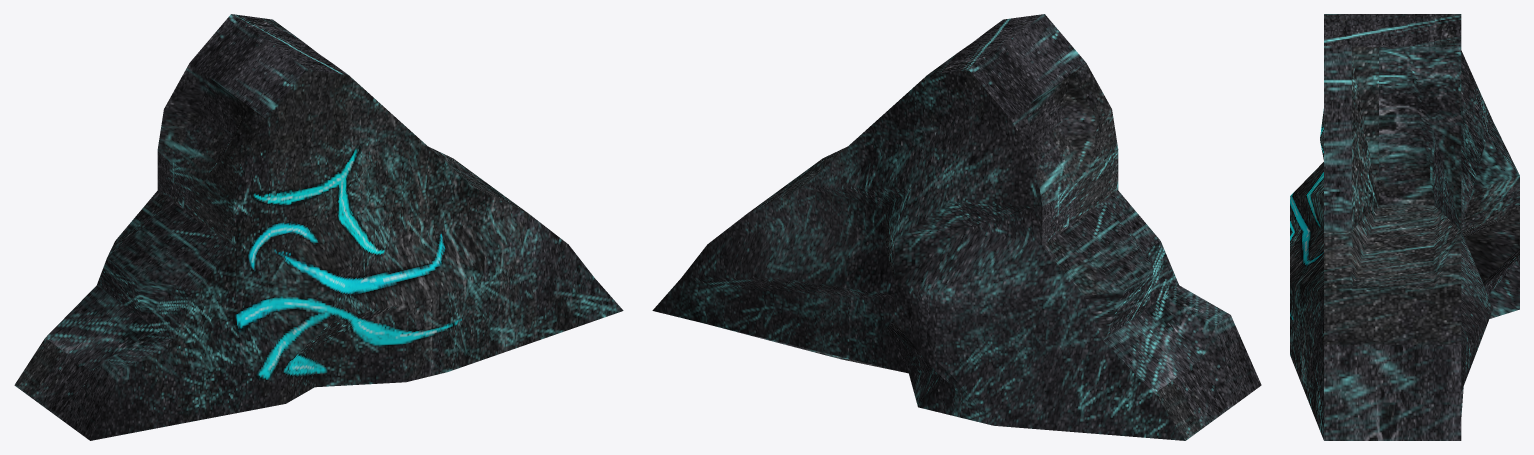
Rendered from piedra.fbx.
The picture shows the model from 3 angles, left to right: view 1: azimuth 30°, elevation 25°; view 2: azimuth 150°, elevation 25°; view 3: azimuth 270°, elevation 25°; orthographic projection. The views are drawn at different scales.
Parts seen in each view (by area): view 1: Box001; view 2: Box001; view 3: Box001.
Part boxes in pixels (x1=…): Box001: x1=14, y1=14, x2=623, y2=440; Box001: x1=652, y1=14, x2=1261, y2=440; Box001: x1=1290, y1=14, x2=1519, y2=440.
Size of the model in its own units: 54.32 by 30.98 by 22.44.
1 material, 1 textured.
